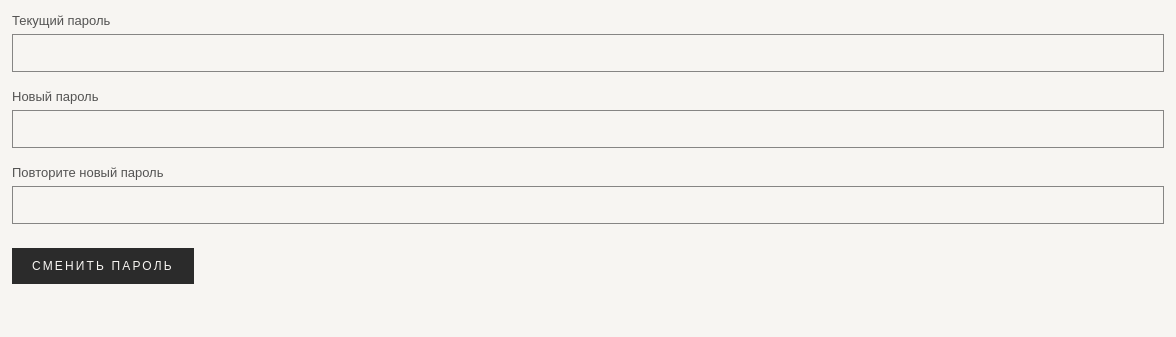
Test: ChangePasswordForm › refuses two different new passwords without asking the server
Type "old-secret" into the password field labelled "Текущий пароль" at (588, 53), box [12,34,1164,72]
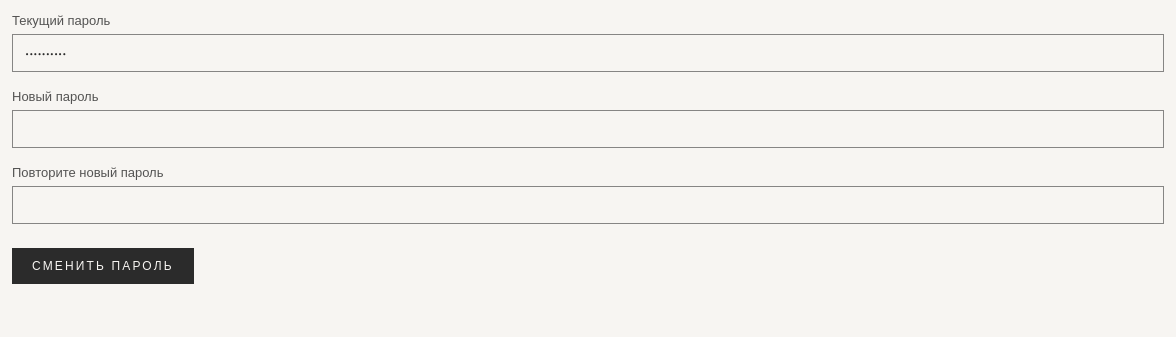
Type "new-secret-1" into the password field labelled "Новый пароль" at (588, 129), box [12,110,1164,148]
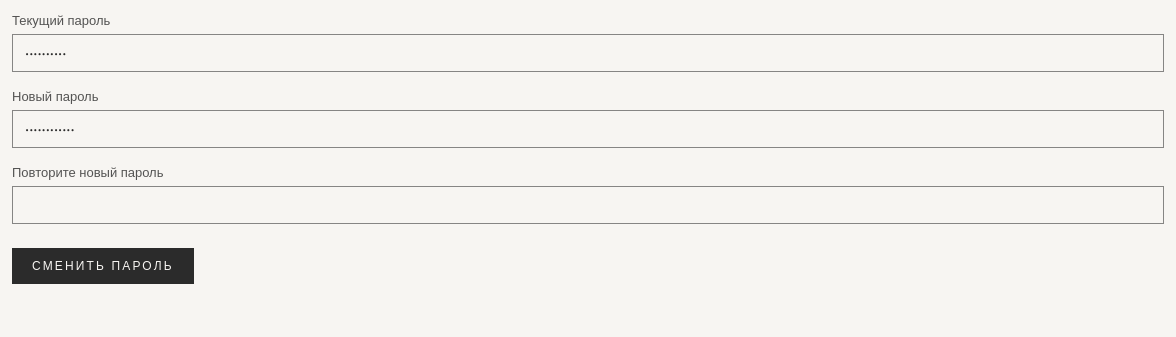
Type "new-secret-2" into the password field labelled "Повторите новый пароль" at (588, 205), box [12,186,1164,224]
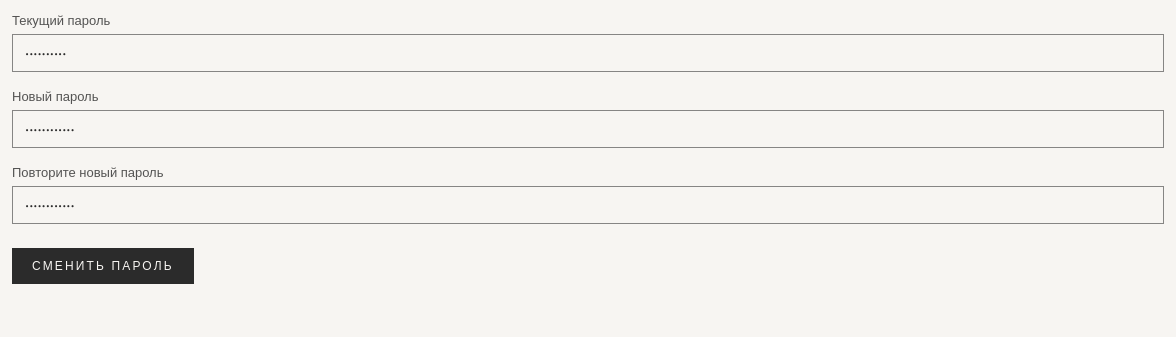
Click the button "Сменить пароль" at (103, 266), box [12,248,194,284]
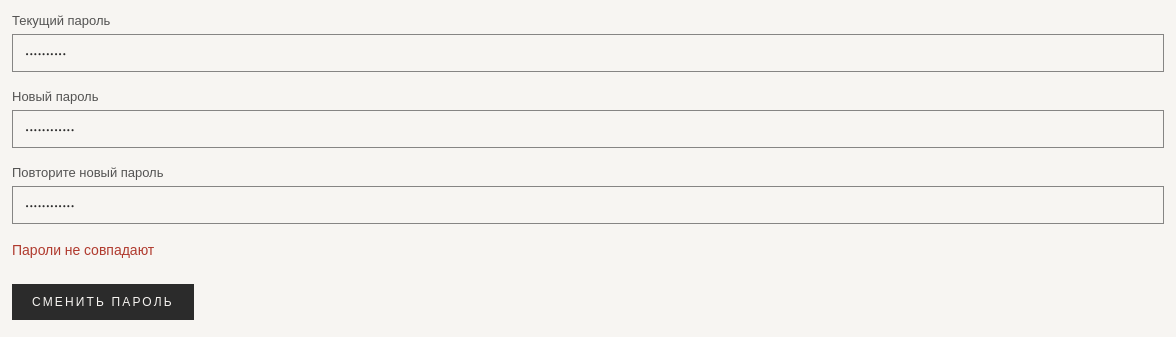
Check: the message reads "Пароли не совпадают", box [12,241,154,259]
